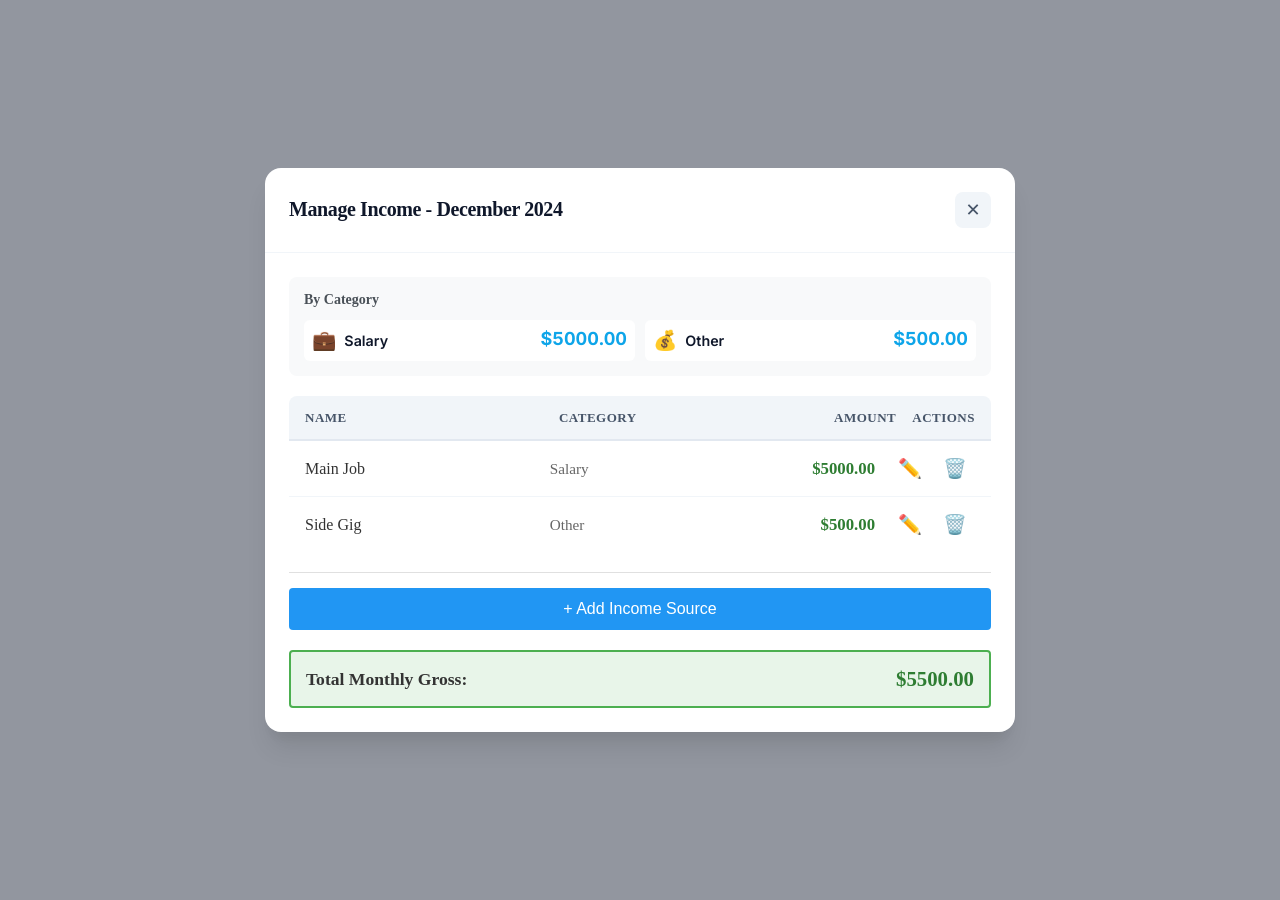
Scenario: IncomeManagementModal › Edit Income Source › shows edit form when edit button is clicked
Expected: the text "Main Job" is shown, 305,460 -> 365,477
Click the button titled "Edit" in the row of "Main Job" at (910, 469), box 890,453 -> 930,484
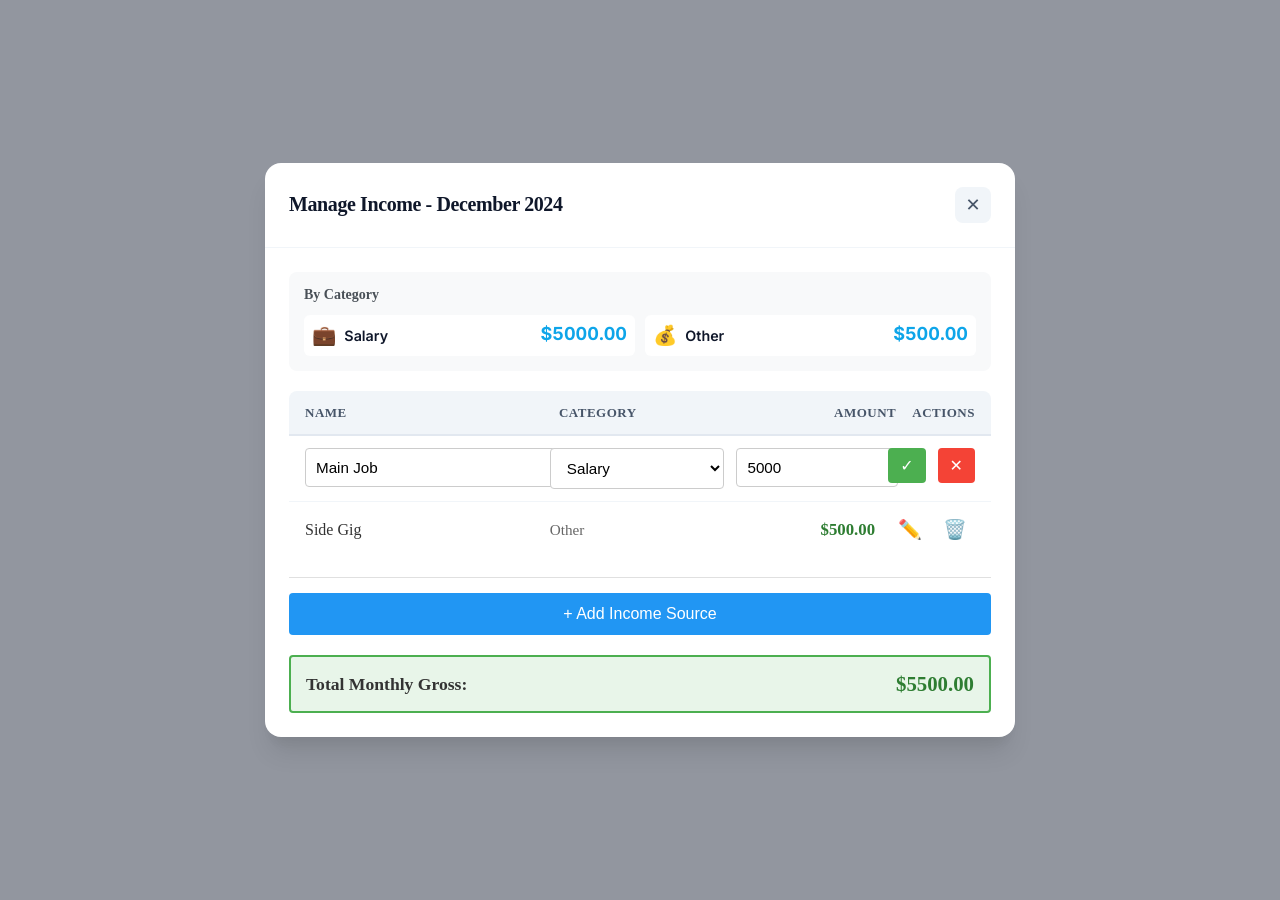
Now the field showing "Main Job" is shown, box 305,448 -> 560,487
Now the number field showing "5000" is shown, box 736,448 -> 898,487
